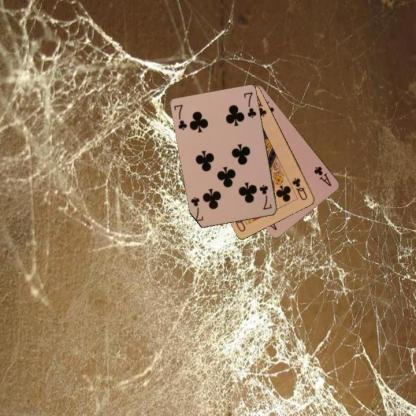7c: (172, 102, 188, 132), (257, 182, 273, 211)
Ac: (311, 163, 333, 188)
Qc: (290, 176, 308, 202)
